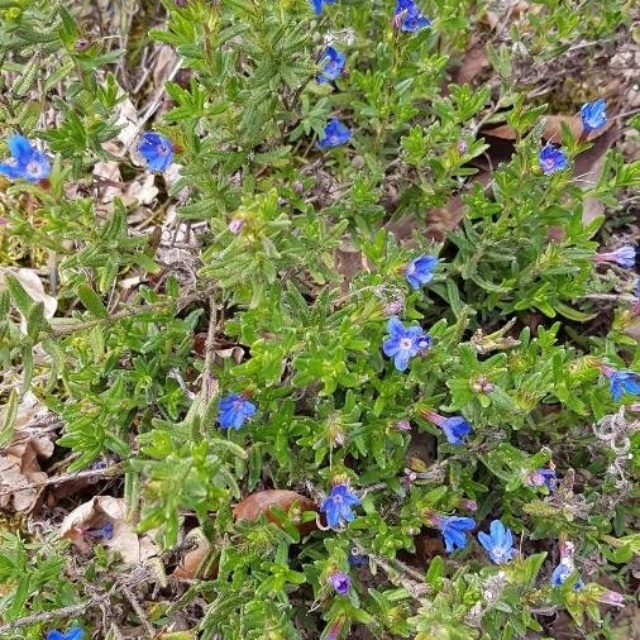obstacle: (96, 106, 517, 589)
